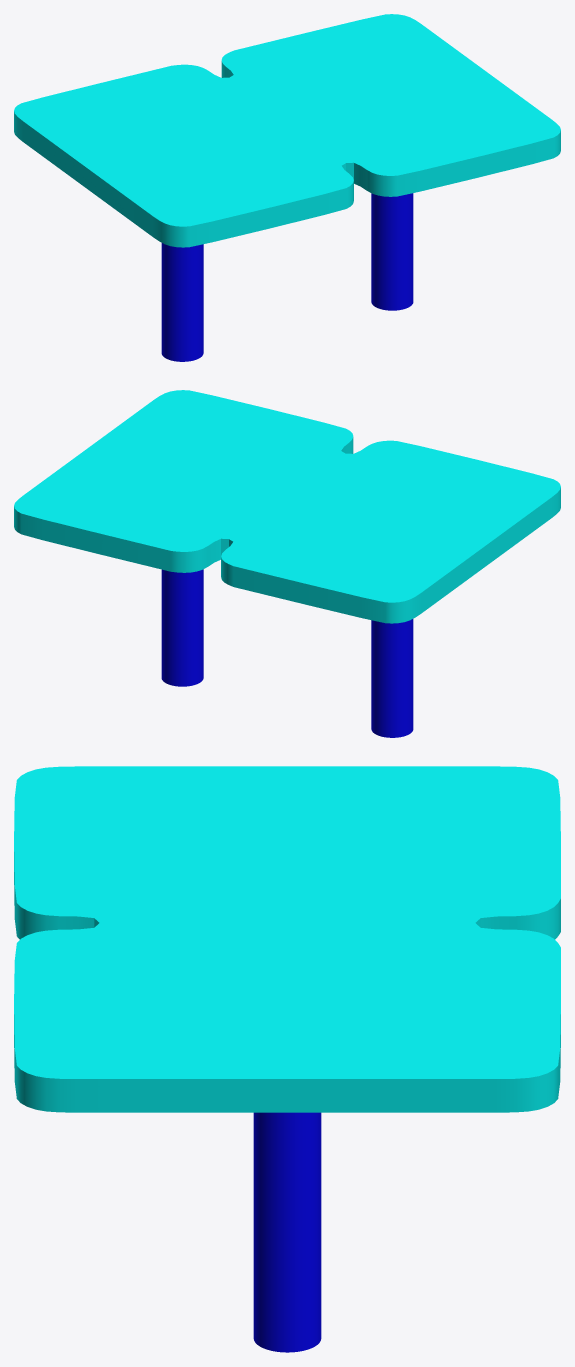
Rendered from table.fbx.
3 views of the same model, one above another, from view 1: azimuth 30°, elevation 25°; view 2: azimuth 150°, elevation 25°; view 3: azimuth 270°, elevation 25° (orthographic). The views are drawn at different scales.
Visible parts, largest first — view 1: polySurface11, polySurface10, polySurface9; view 2: polySurface11, polySurface10, polySurface9; view 3: polySurface11, polySurface9.
Part boxes in pixels (<box>): polySurface11: <box>14,14,560,247</box>; polySurface10: <box>161,243,203,361</box>; polySurface9: <box>371,193,413,310</box>; polySurface11: <box>14,390,560,623</box>; polySurface10: <box>371,619,413,737</box>; polySurface9: <box>161,569,203,686</box>; polySurface11: <box>14,766,560,1112</box>; polySurface9: <box>253,1112,321,1352</box>.
Bounding box in the file's own units: 3.57 × 1.77 × 2.64.
